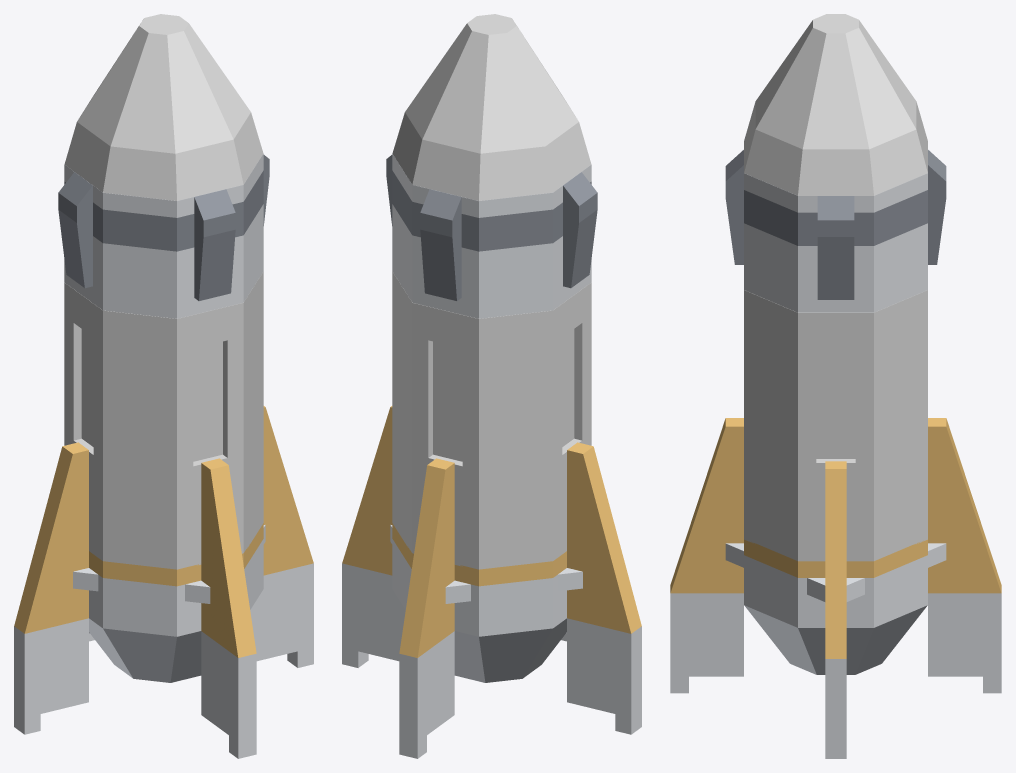
Rendered from rocket.glb.
3 views of the same model, side by side, from view 1: azimuth 30°, elevation 25°; view 2: azimuth 150°, elevation 25°; view 3: azimuth 270°, elevation 25° (orthographic).
Visible parts, largest first — view 1: rocket_baseA, rocket_sidesA, rocket_topA, rocket_finsA, rocket_fuelA; view 2: rocket_baseA, rocket_sidesA, rocket_topA, rocket_finsA, rocket_fuelA; view 3: rocket_baseA, rocket_sidesA, rocket_finsA, rocket_topA, rocket_fuelA.
Boxes of the visible parts, left/top/right/bottom form: rocket_baseA: left=14, top=406, right=313, bottom=758; rocket_sidesA: left=64, top=271, right=263, bottom=486; rocket_topA: left=64, top=14, right=263, bottom=200; rocket_finsA: left=58, top=154, right=269, bottom=318; rocket_fuelA: left=89, top=439, right=263, bottom=569; rocket_baseA: left=342, top=406, right=641, bottom=758; rocket_sidesA: left=392, top=271, right=591, bottom=486; rocket_topA: left=392, top=14, right=591, bottom=200; rocket_finsA: left=386, top=154, right=597, bottom=318; rocket_fuelA: left=392, top=439, right=566, bottom=569; rocket_baseA: left=670, top=418, right=1001, bottom=758; rocket_sidesA: left=744, top=290, right=927, bottom=479; rocket_finsA: left=725, top=150, right=946, bottom=312; rocket_topA: left=744, top=14, right=927, bottom=195; rocket_fuelA: left=744, top=456, right=927, bottom=561.
Size of the model in its own units: 1.8 by 3.99 by 1.8.
